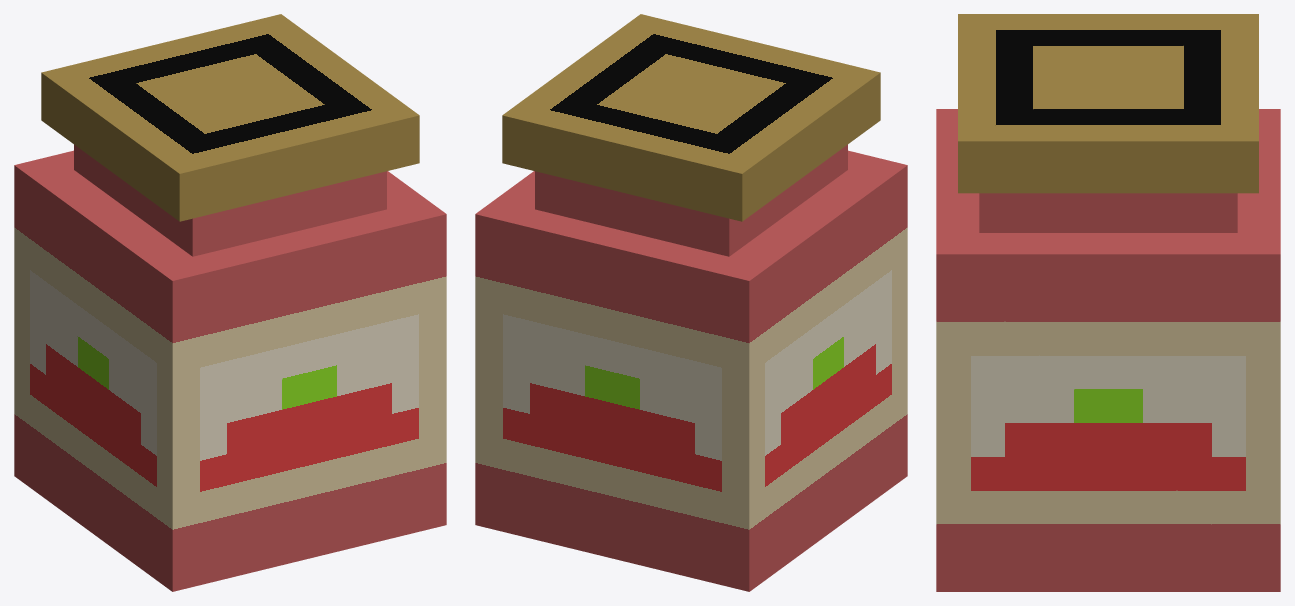
The model's file is pasta_sauce.fbx.
The picture shows the model from 3 angles, left to right: view 1: azimuth 30°, elevation 25°; view 2: azimuth 150°, elevation 25°; view 3: azimuth 270°, elevation 25°; orthographic projection. The views are drawn at different scales.
Visible parts, largest first — view 1: cube, cube_1, cube_2; view 2: cube, cube_1, cube_2; view 3: cube, cube_1, cube_2.
Part boxes in pixels (x1,y1,x2,y2): cube: (14, 150, 446, 591); cube_1: (41, 14, 419, 221); cube_2: (74, 144, 386, 256); cube: (475, 150, 907, 591); cube_1: (502, 14, 880, 221); cube_2: (535, 144, 847, 256); cube: (936, 109, 1280, 591); cube_1: (958, 14, 1258, 193); cube_2: (979, 193, 1237, 232).
Bounding box in the file's own units: 7.5 × 10.63 × 7.5.
